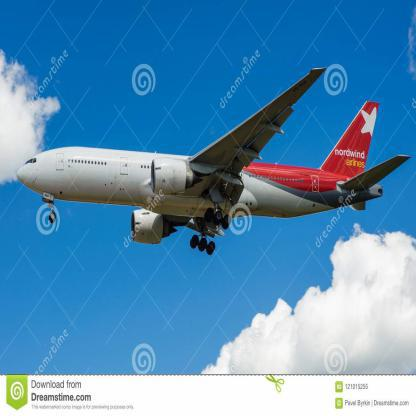CIV_Plane: (11, 61, 411, 260)
